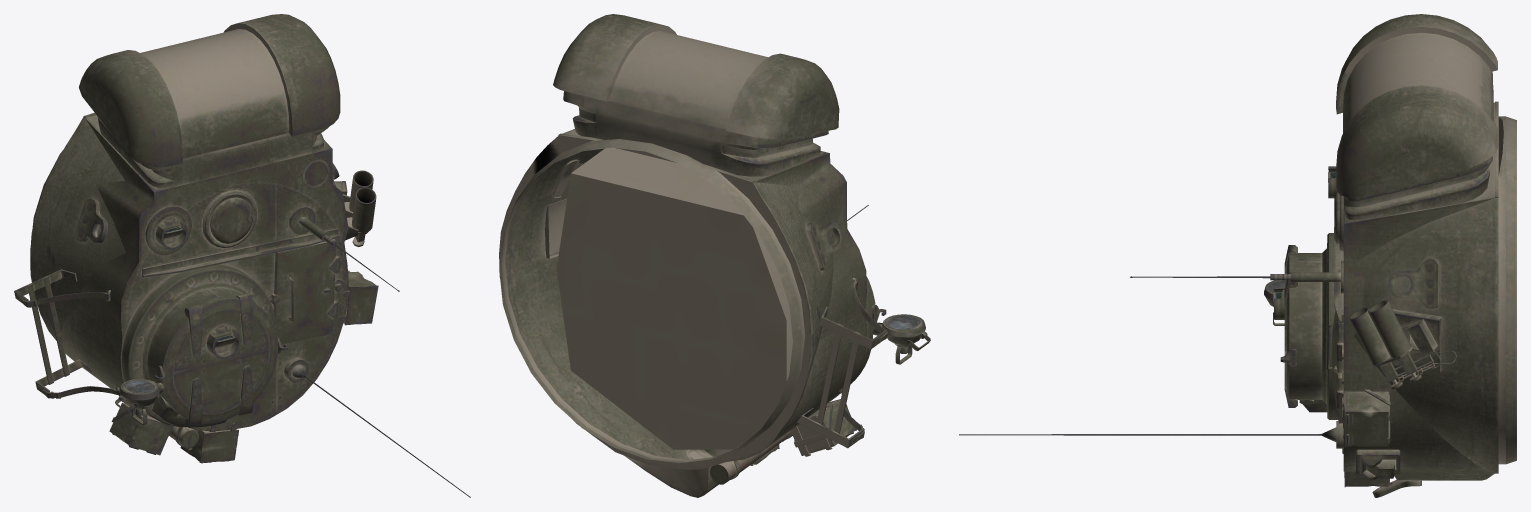
The model's file is Turret_01.glb.
3 views of the same model, side by side, from view 1: azimuth 30°, elevation 25°; view 2: azimuth 150°, elevation 25°; view 3: azimuth 270°, elevation 25° (orthographic). The views are drawn at different scales.
Visible parts, largest first — view 1: set_0_group_0; view 2: set_0_group_0; view 3: set_0_group_0.
Part boxes in pixels (x1=…): set_0_group_0: x1=14, y1=14, x2=470, y2=497; set_0_group_0: x1=499, y1=14, x2=930, y2=497; set_0_group_0: x1=959, y1=14, x2=1516, y2=497.
Bounding box in the file's own units: 1.96 × 2.28 × 2.61.
Materials: 1 (1 with a texture image).
